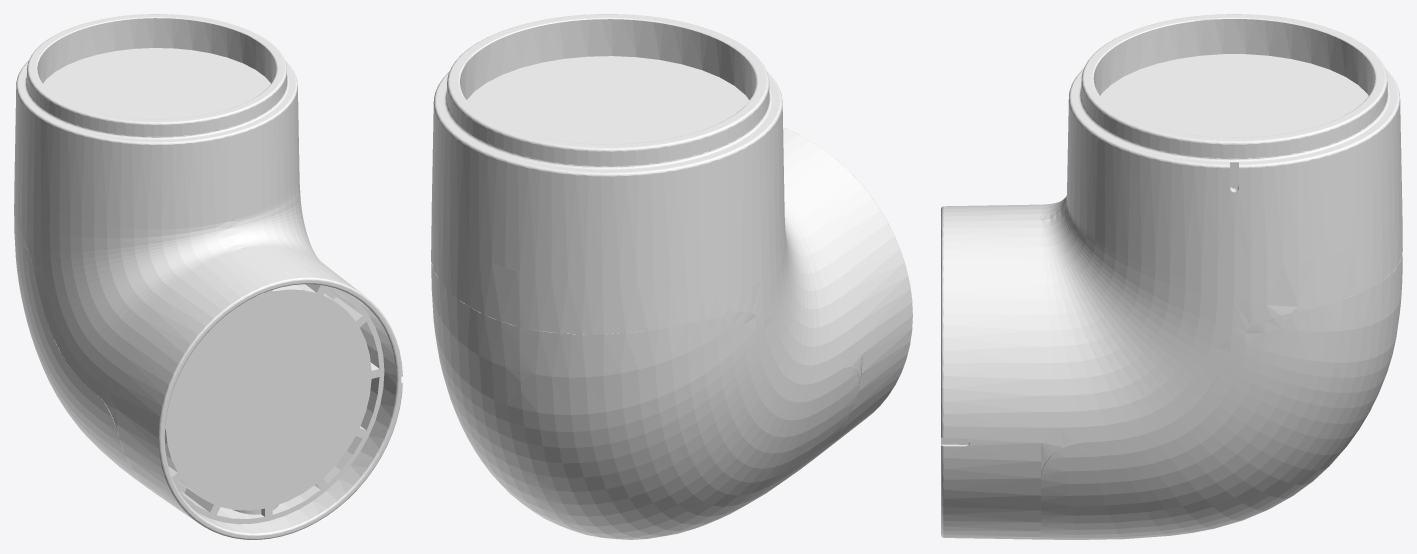
File: joint5.dae
3 renders of one model, left to right at view 1: azimuth 30°, elevation 25°; view 2: azimuth 150°, elevation 25°; view 3: azimuth 270°, elevation 25°, orthographic. The views are drawn at different scales.
Parts seen in each view (by area): view 1: node.001; view 2: node.001; view 3: node.001.
Boxes of the visible parts, x1=… form: node.001: x1=14, y1=14, x2=402, y2=539; node.001: x1=431, y1=14, x2=912, y2=539; node.001: x1=941, y1=14, x2=1402, y2=539.
Bounding box in the file's own units: 38.59 × 52.79 × 56.34.
1 material, 1 textured.
